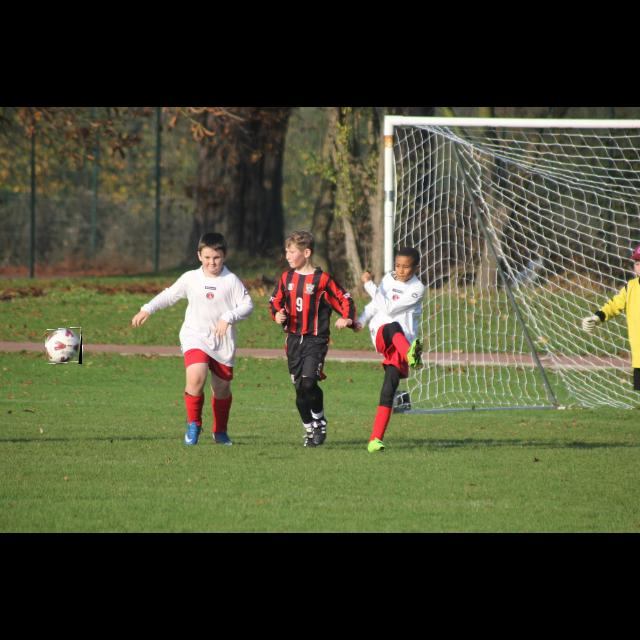Football: (46, 328, 82, 364)
